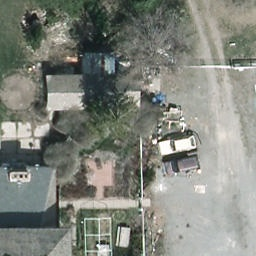car: (160, 154, 202, 178), (156, 135, 198, 156)
